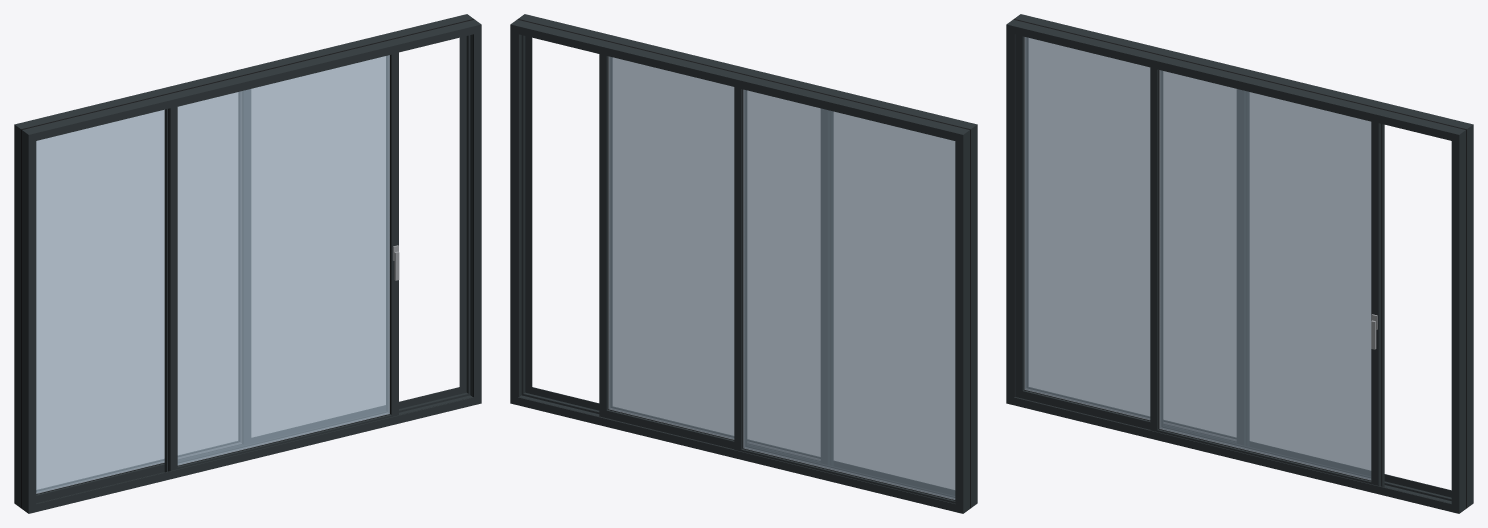
File: slimpatio-68.glb
3 views of the same model, side by side, from view 1: azimuth 30°, elevation 25°; view 2: azimuth 150°, elevation 25°; view 3: azimuth 330°, elevation 25° (orthographic).
Visible parts, largest first — view 1: SlimPatio 68; view 2: SlimPatio 68; view 3: SlimPatio 68.
Part boxes in pixels (x1,y1,x2,y2): SlimPatio 68: (14, 14, 481, 513); SlimPatio 68: (510, 14, 977, 513); SlimPatio 68: (1006, 14, 1473, 513).
Size of the model in its own units: 3 by 2.4 by 0.1767.
